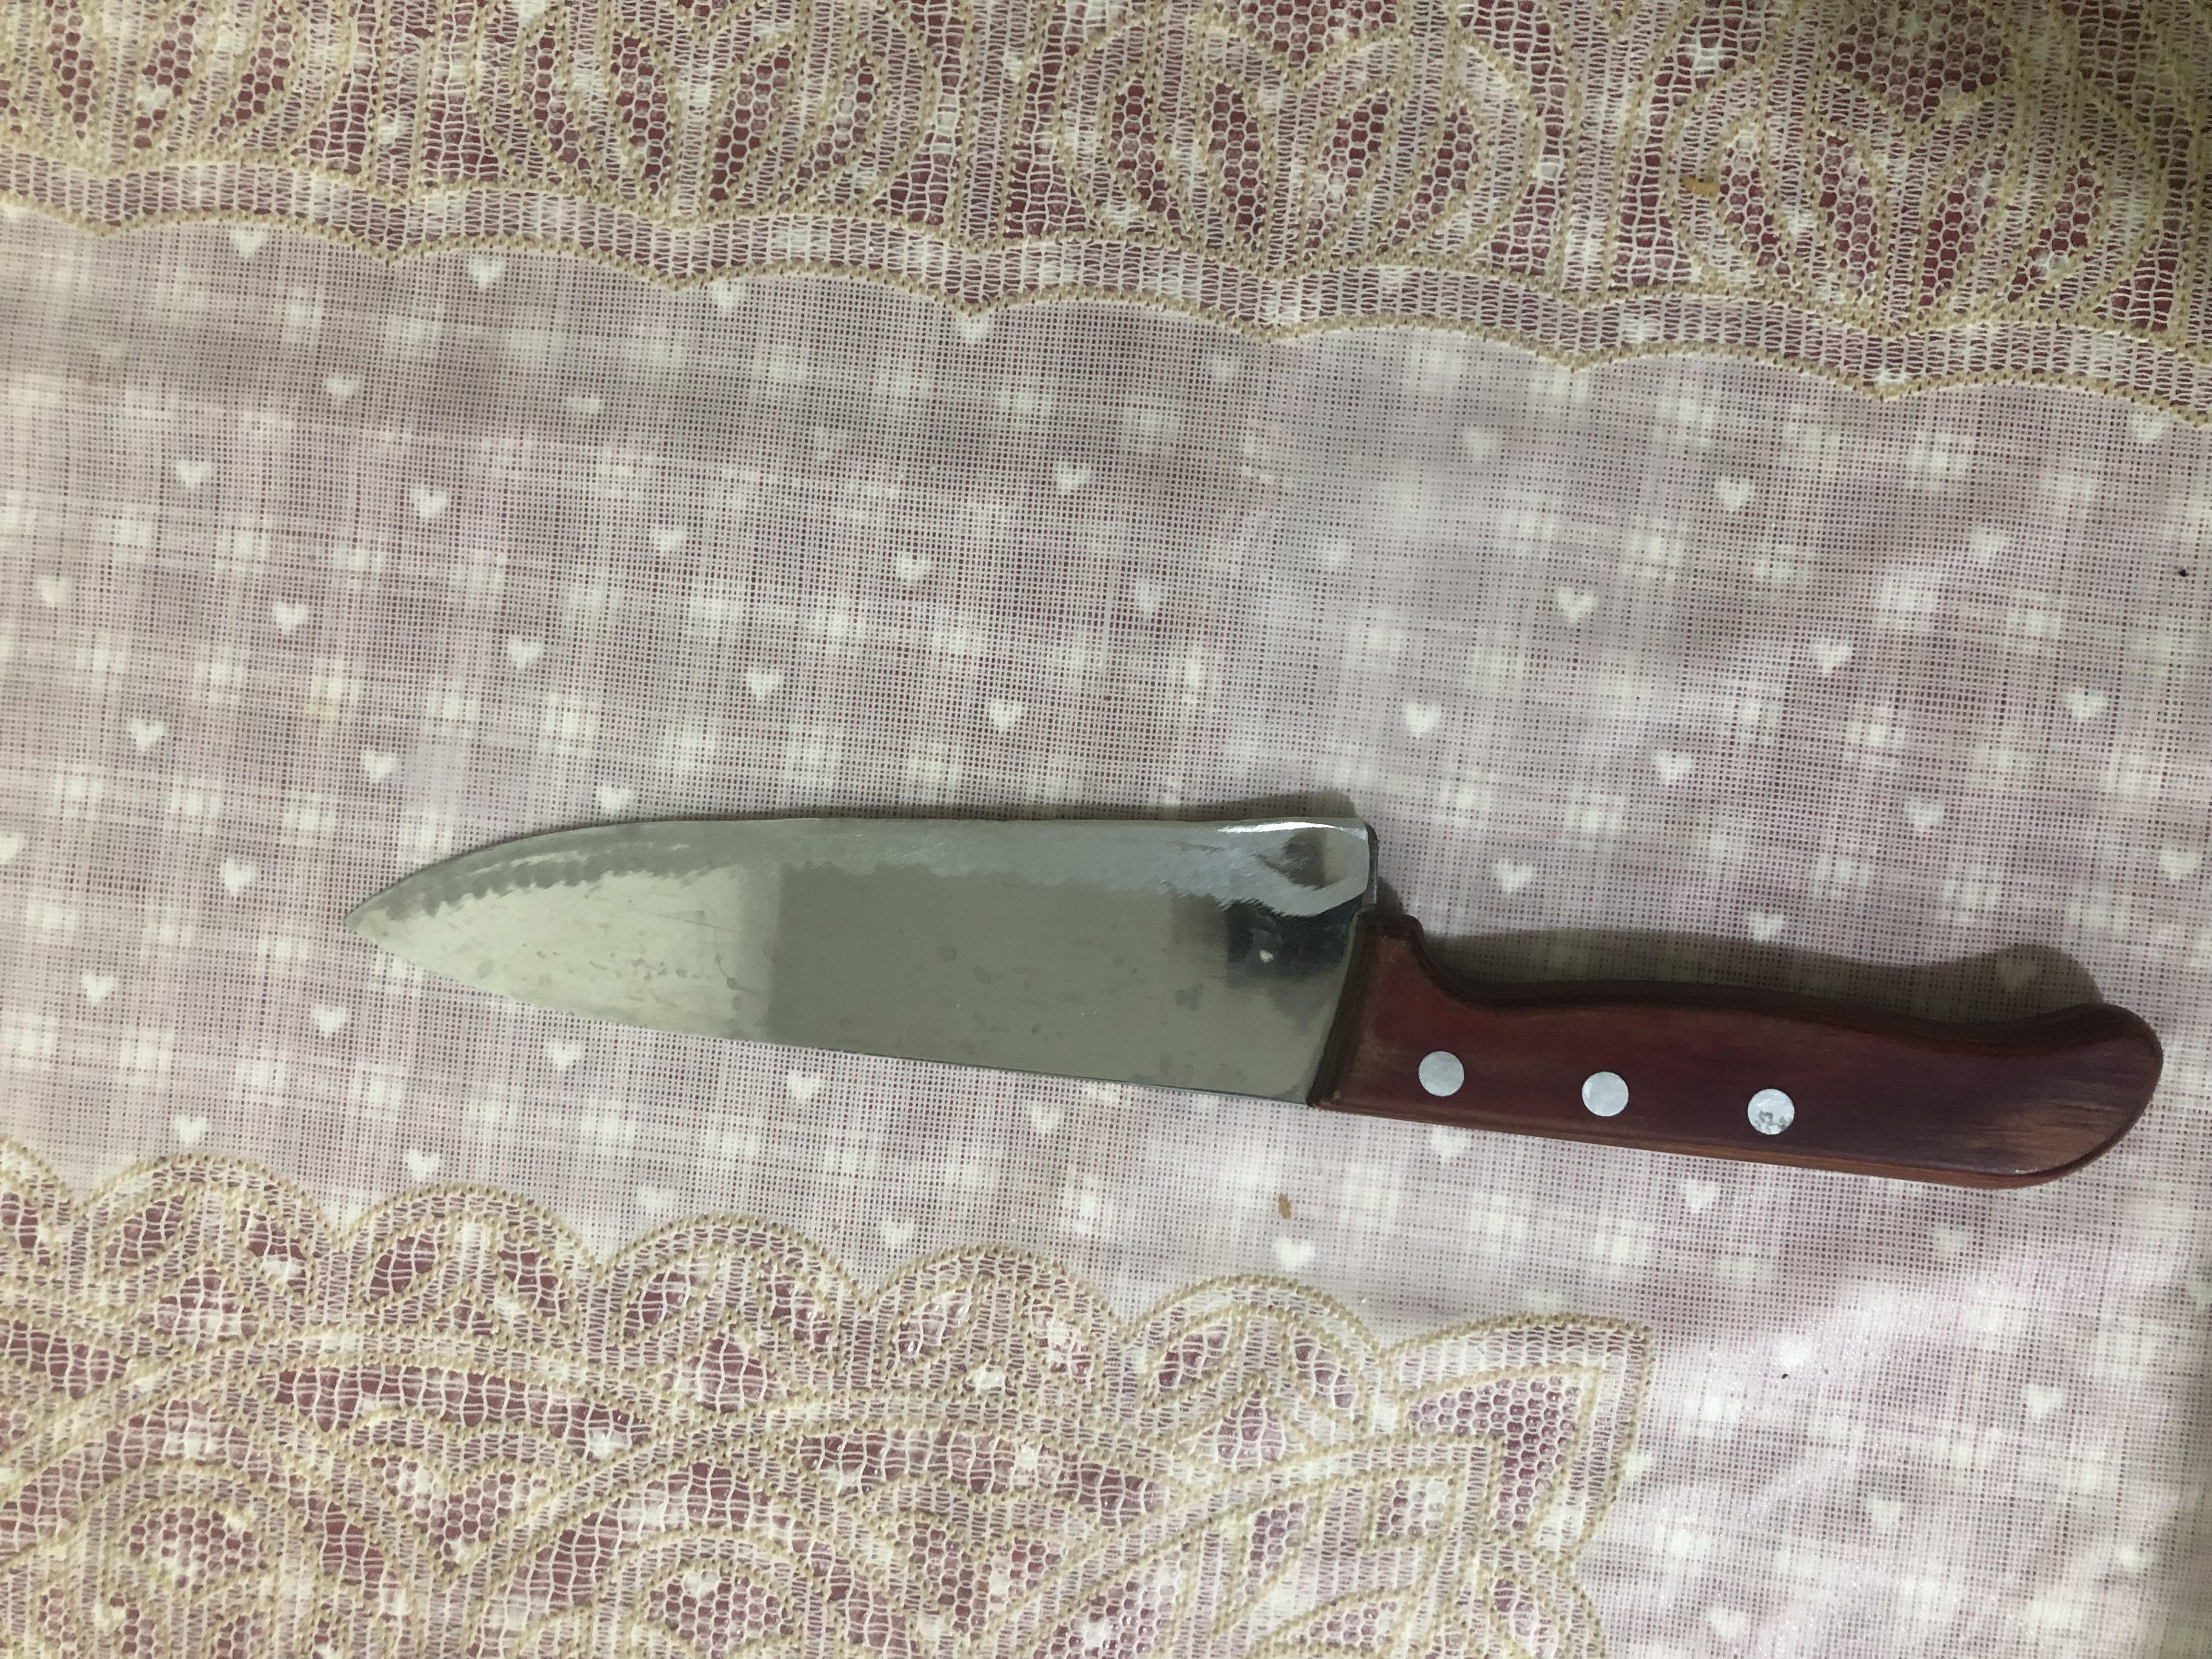weapon: (624, 256, 1143, 1622)
